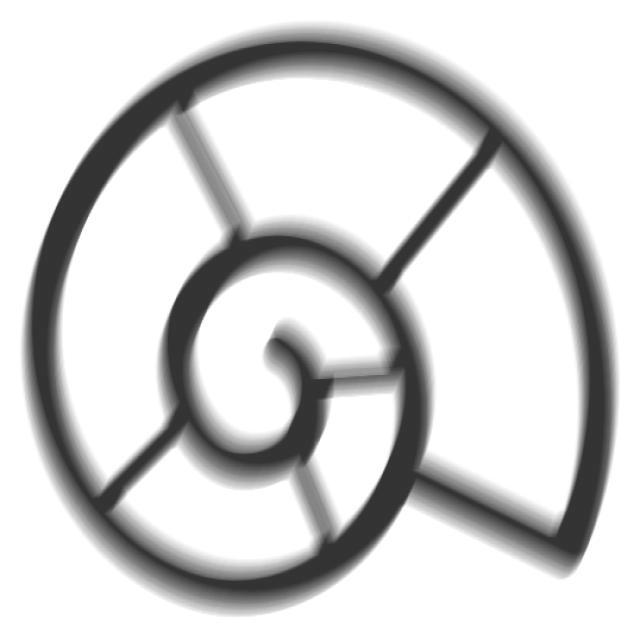fossil: (13, 14, 629, 628)
